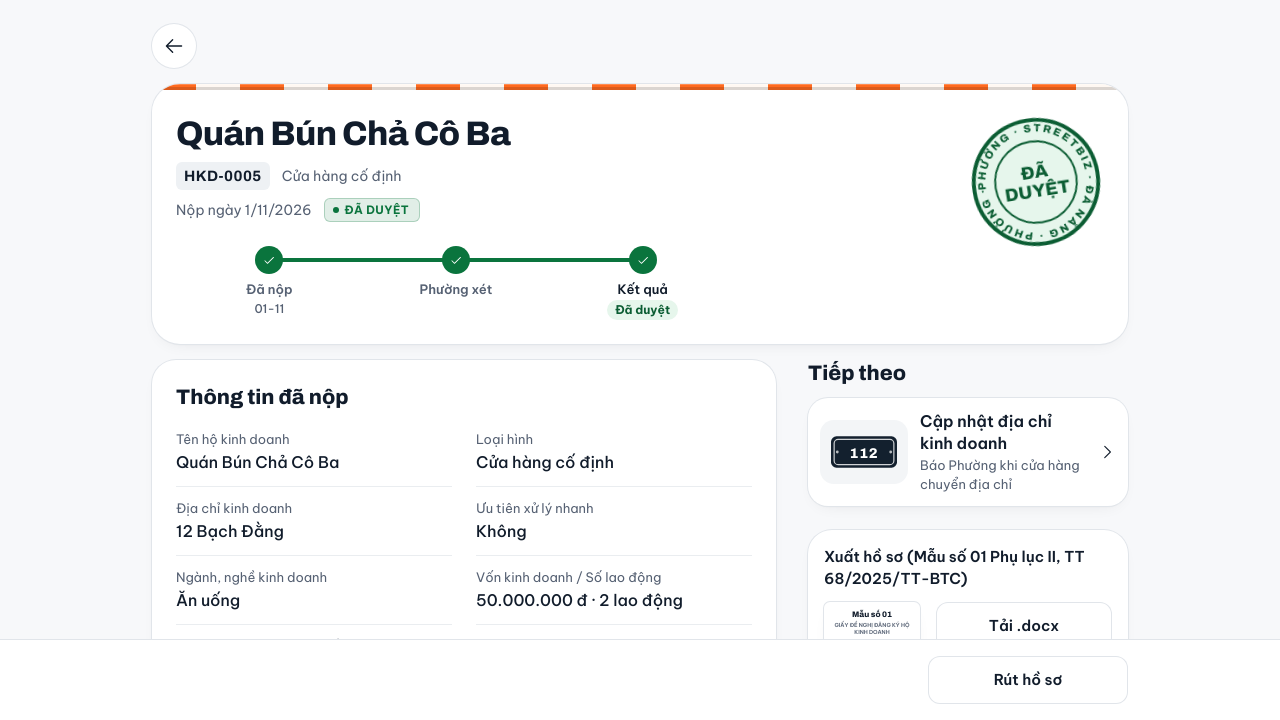
Test case: RegistrationDetailScreen › stays on the file when the backend refuses the withdrawal (BR-16)
Click the button "Rút hồ sơ" at [1028, 680], box x1=928 y1=656 x2=1128 y2=704
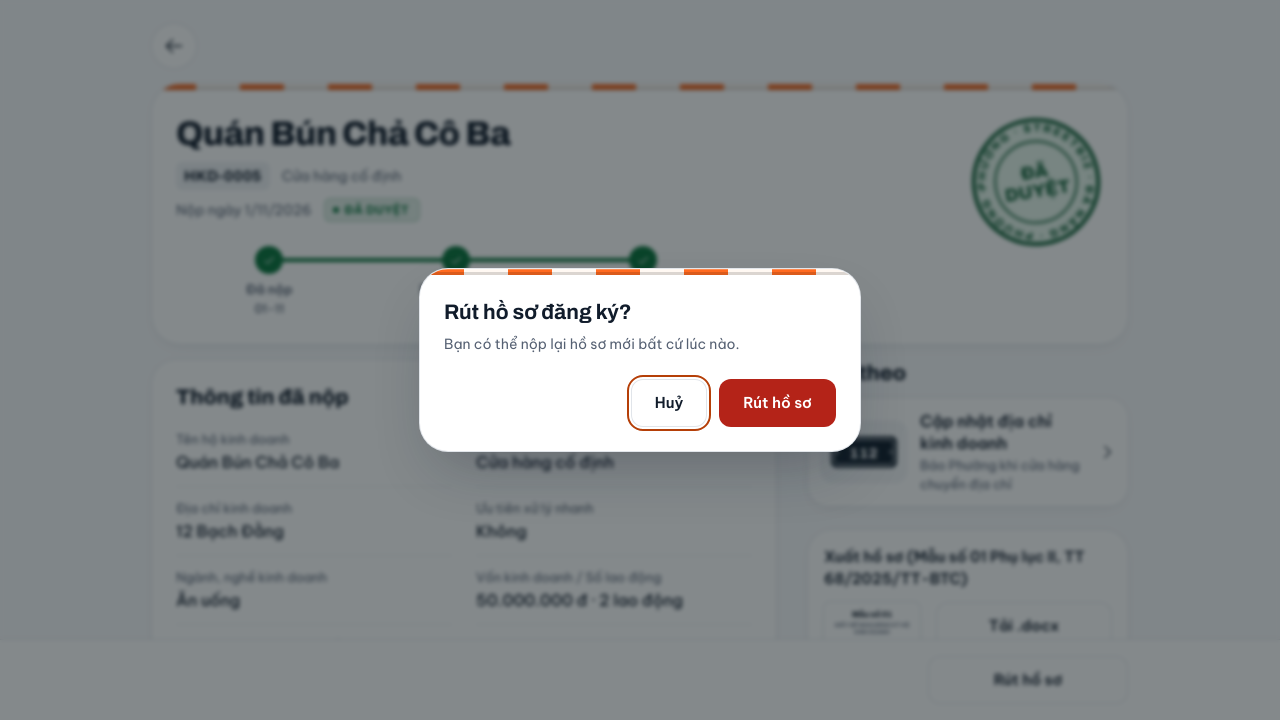
Click the button "Rút hồ sơ" at [778, 403], box x1=719 y1=379 x2=836 y2=427
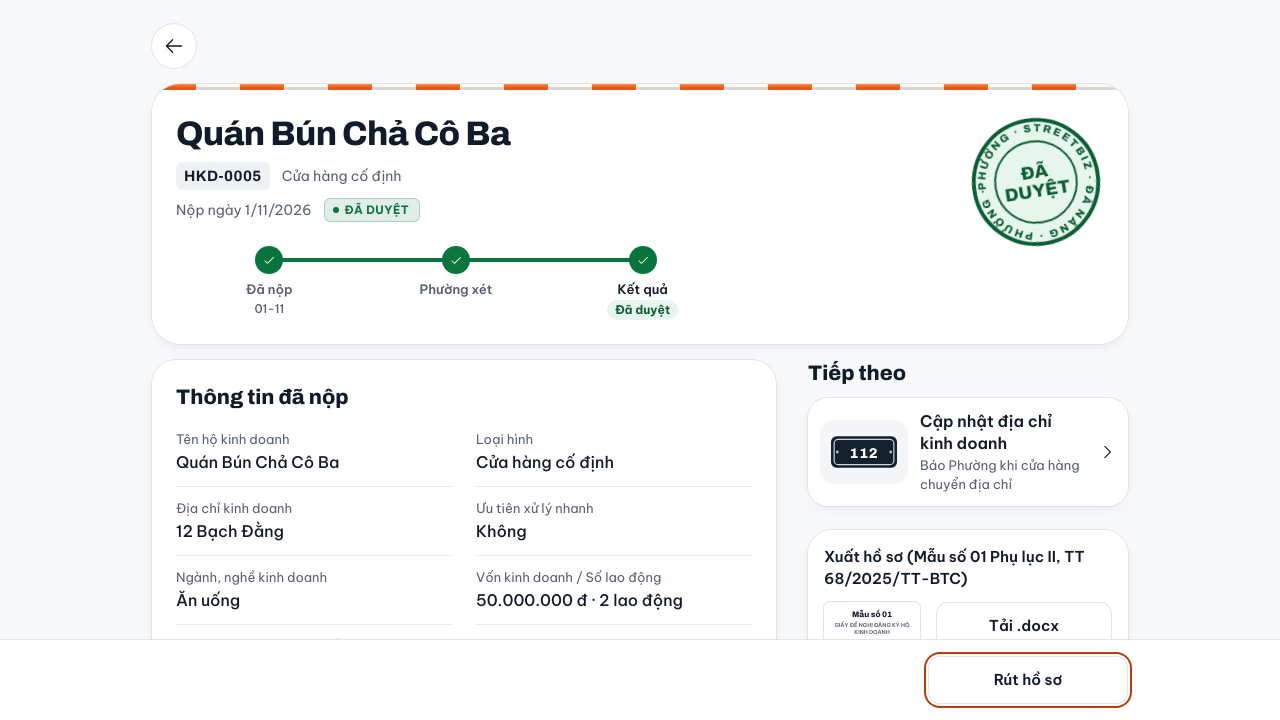
expect the dialog is gone: met
